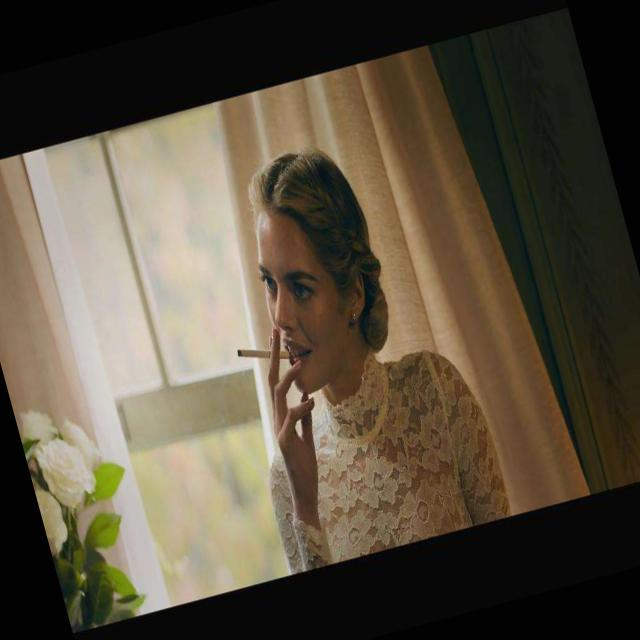cigarette: (232, 334, 273, 368)
